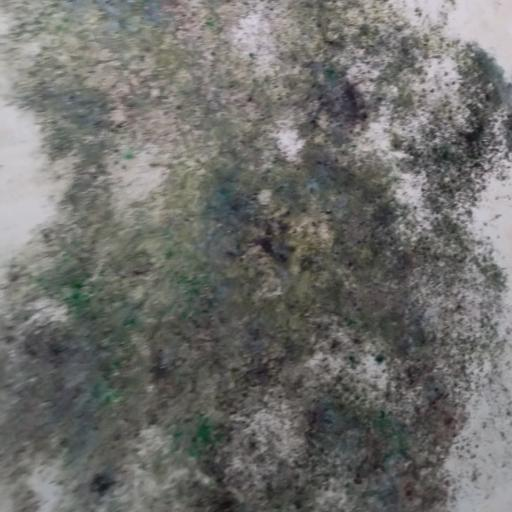algae: (4, 3, 501, 512)
